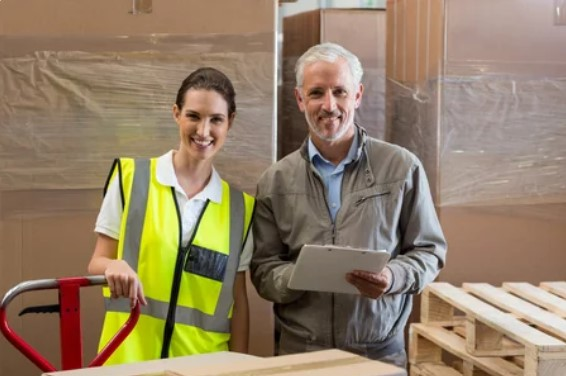worker: (100, 67, 254, 360)
